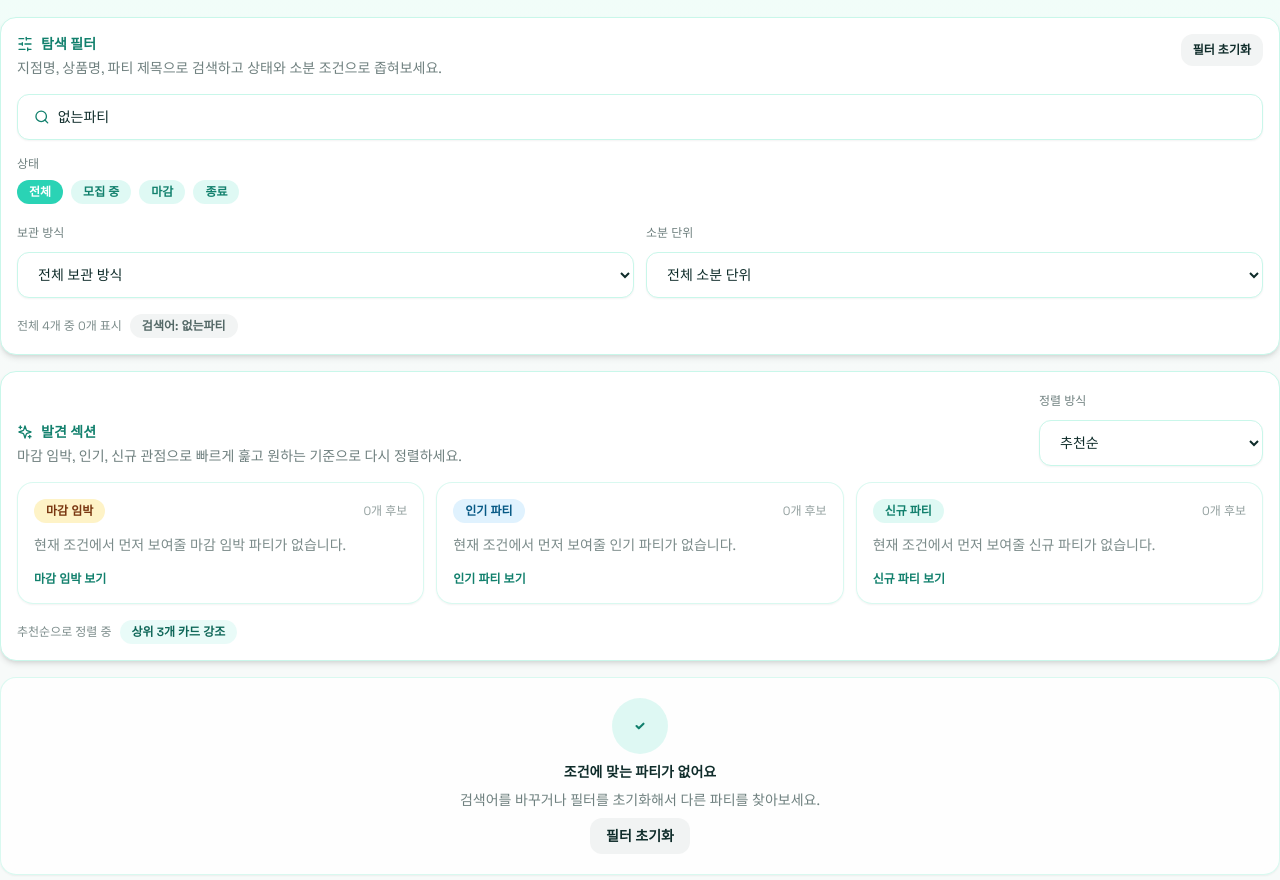
PartyList filters › 조건에_맞는_결과가_없으면_빈상태와_초기화_동작을_보여준다
(page scrolled)
Step 1. Click the button "필터 초기화" below "검색어를 바꾸거나 필터를 초기화해서 다른 파티를 찾아보세요." → point(640, 836), box [590,818,690,854]
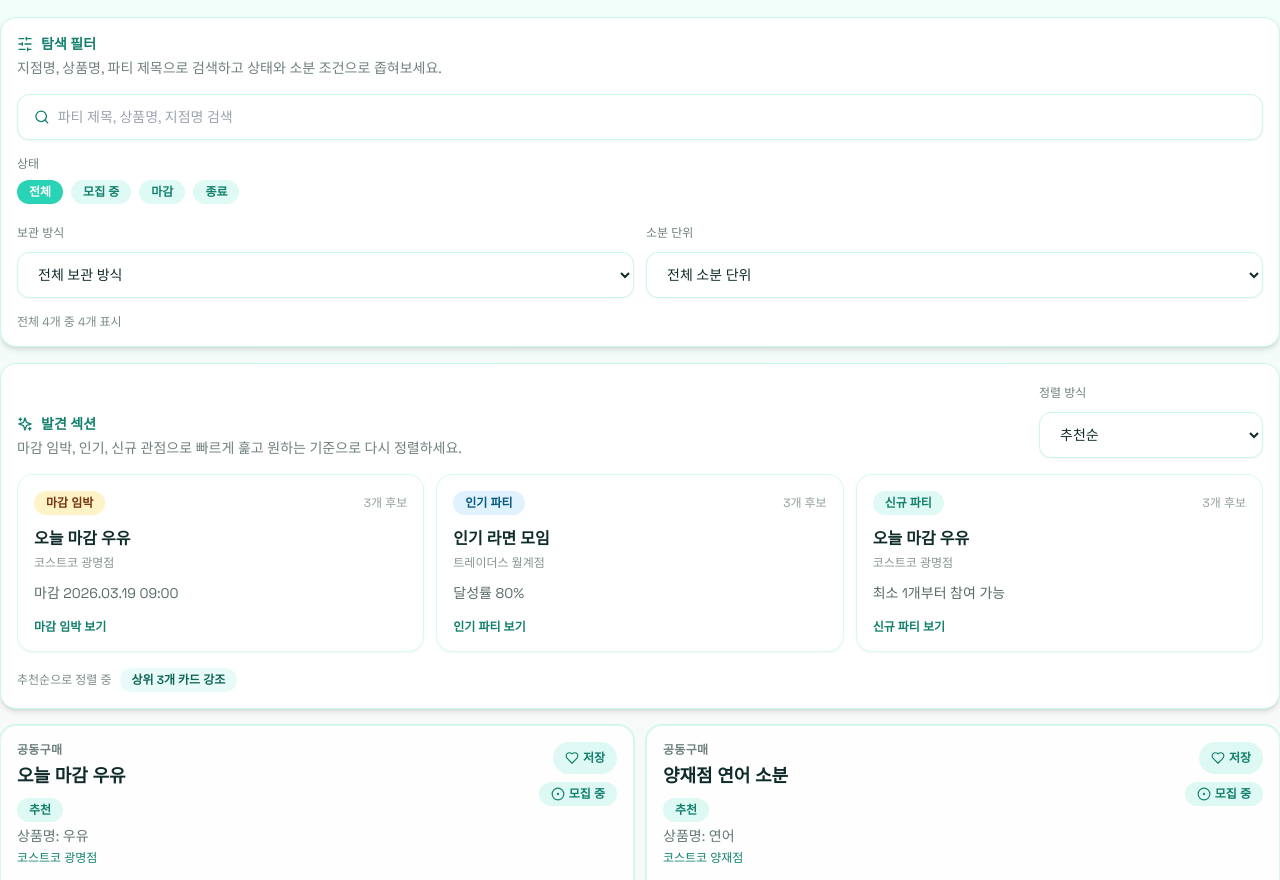
Result: the text "전체 4개 중 4개 표시" is shown at [17,314,122,330]
Result: the heading "양재점 연어 소분" is shown at [663,762,788,790]
Result: the heading "오늘 마감 우유" is shown at [17,762,126,790]
